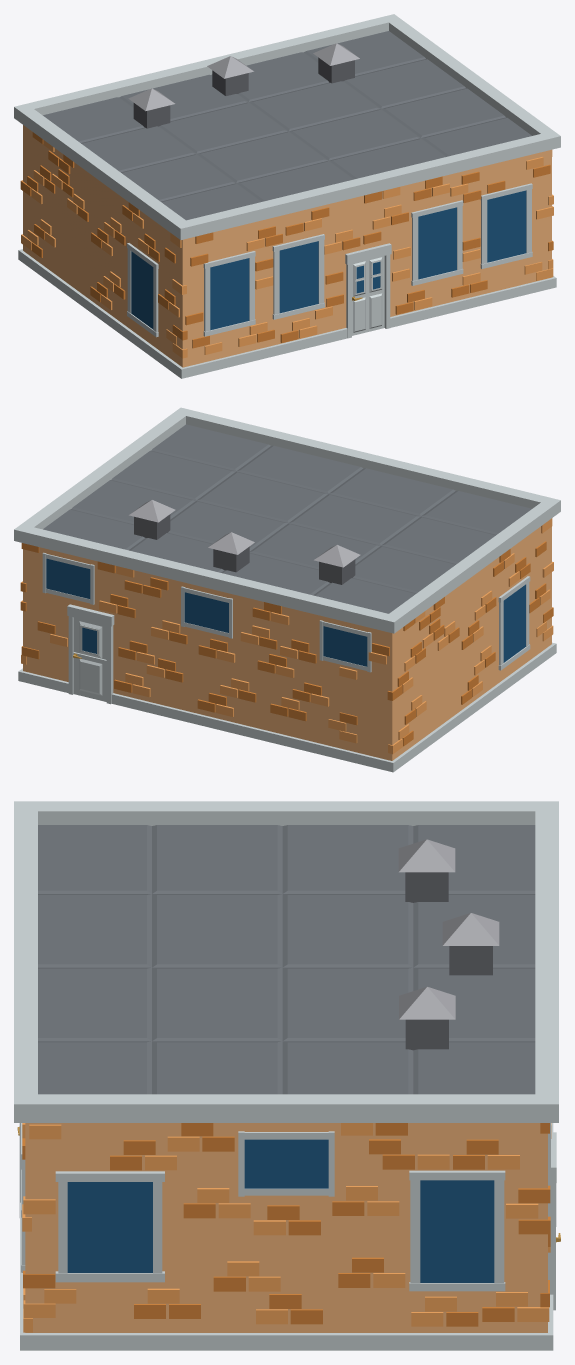
File: SM_House_21_A.FBX
The picture shows the model from 3 angles, top to bottom: view 1: azimuth 30°, elevation 25°; view 2: azimuth 150°, elevation 25°; view 3: azimuth 270°, elevation 25°; orthographic projection. The views are drawn at different scales.
Parts seen in each view (by area): view 1: SM_House_21_A; view 2: SM_House_21_A; view 3: SM_House_21_A.
Part boxes in pixels (bbox=[...]): SM_House_21_A: bbox=[14, 14, 560, 378]; SM_House_21_A: bbox=[14, 407, 560, 772]; SM_House_21_A: bbox=[14, 801, 560, 1350].
Size of what is drawn, in the model's own units: 1153 by 879 by 511.
